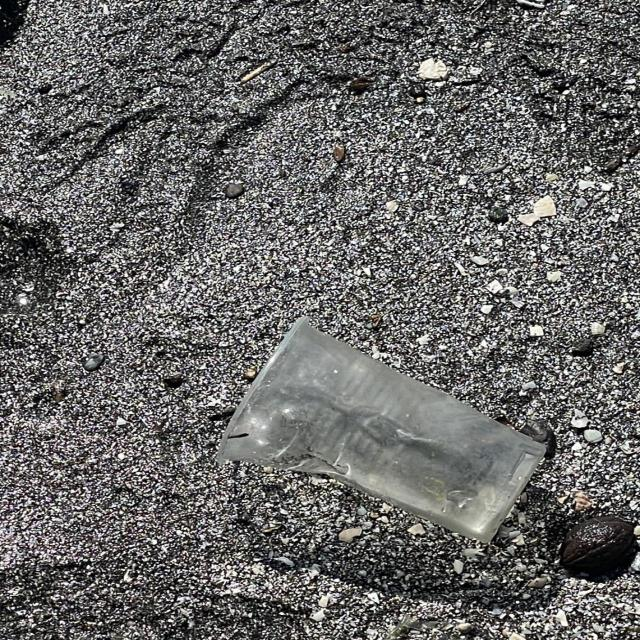plastic_waste: (214, 314, 550, 547)
